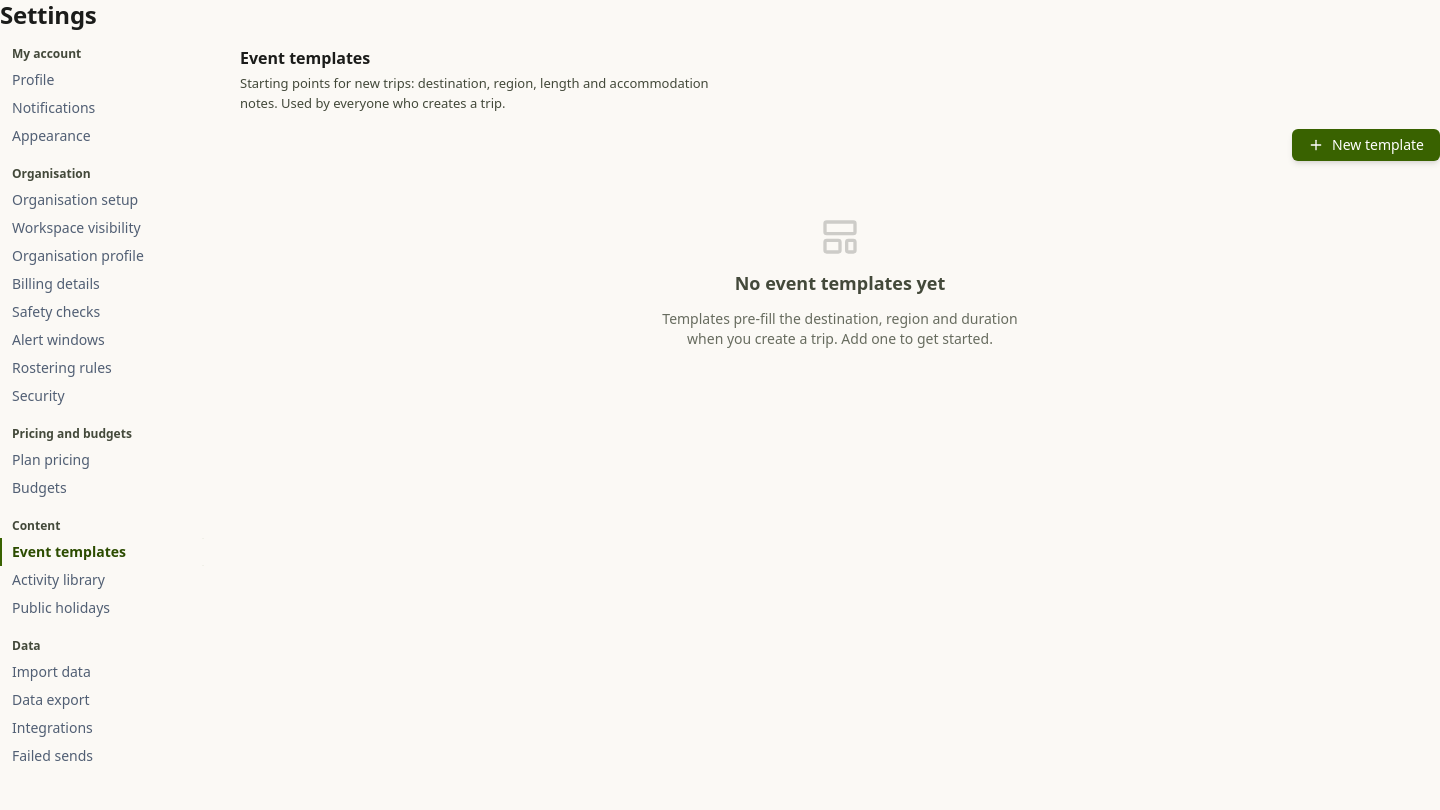
SettingsPage — Event Templates tab › shows an empty state and a single "New template" action, at the top of its section, when there are no templates
Check: the text "No event templates yet" is shown, box [735, 269, 945, 297]
Click the button "New template" at (1366, 145), box [1292, 129, 1439, 161]
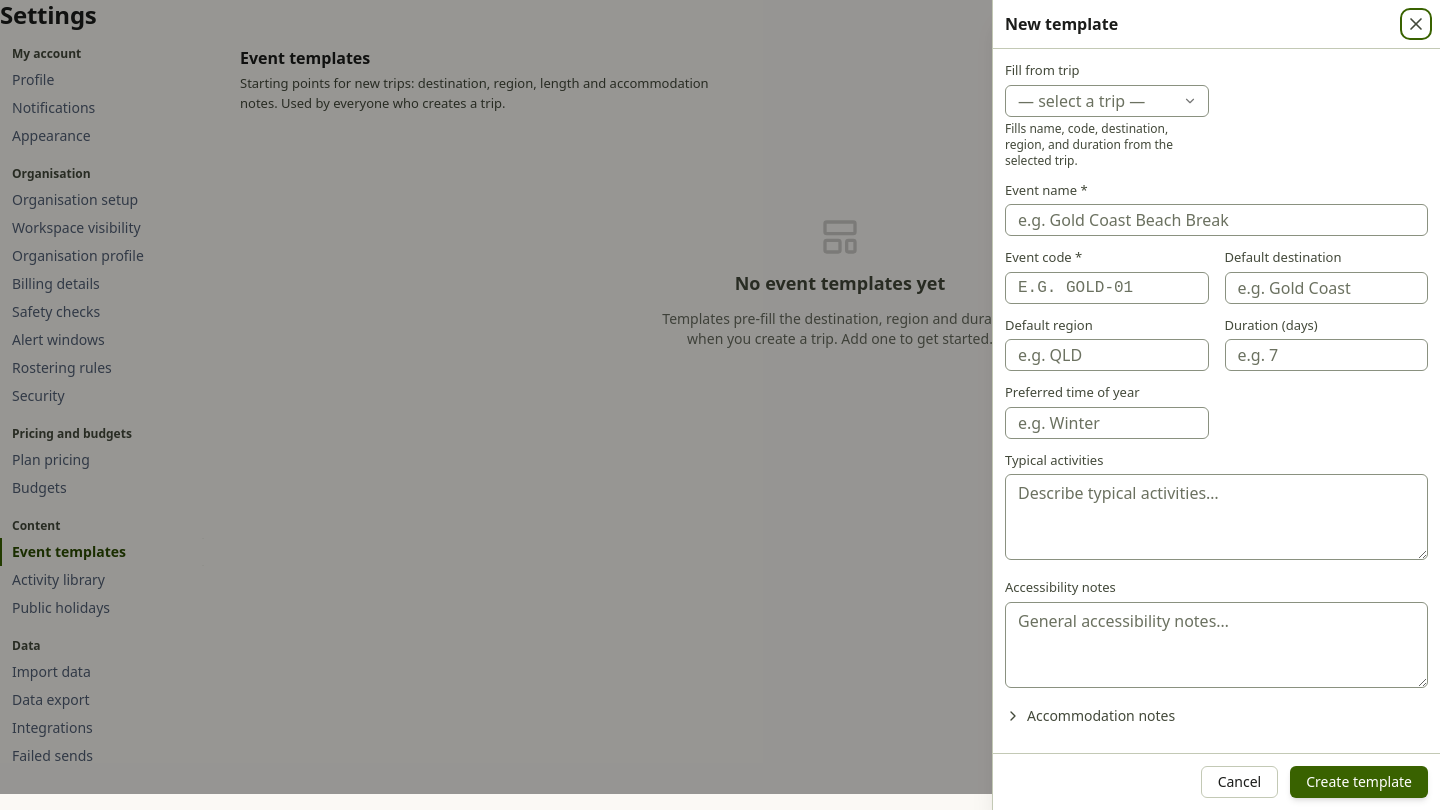
Check: the heading "New template" is shown, box [1005, 12, 1118, 36]
